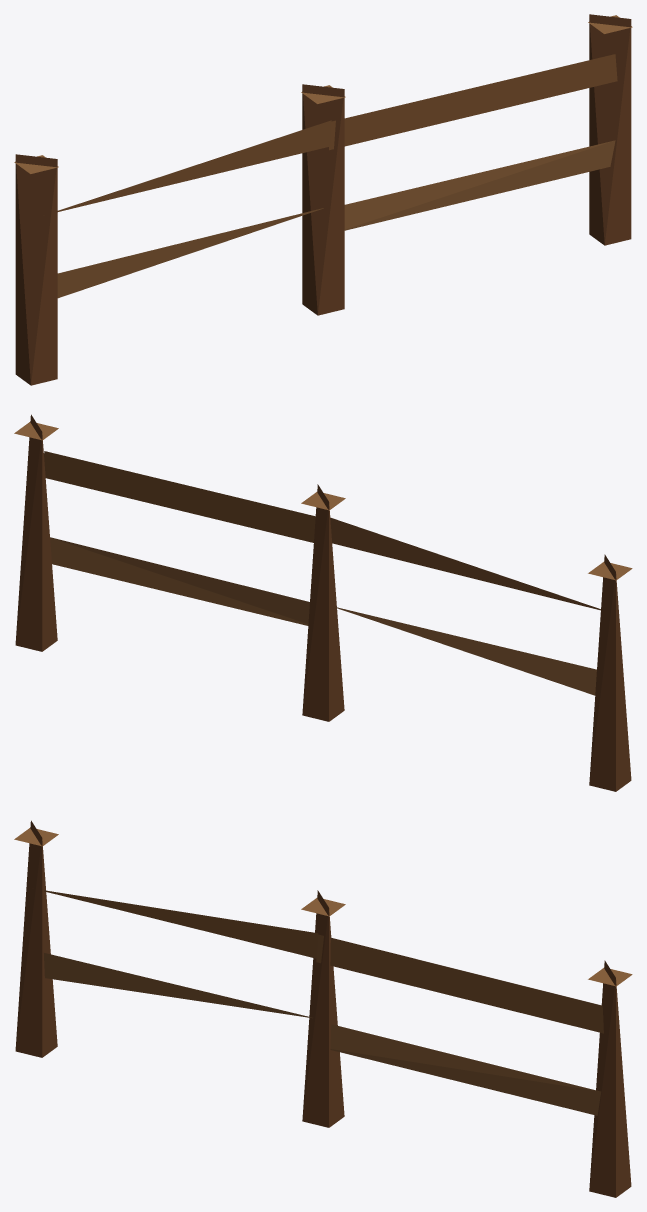
File: town_fence-lod1.glb
3 renders of one model, top to bottom at view 1: azimuth 30°, elevation 25°; view 2: azimuth 150°, elevation 25°; view 3: azimuth 330°, elevation 25°, orthographic.
Visible parts, largest first — view 1: town_fence; view 2: town_fence; view 3: town_fence.
Part boxes in pixels (x1,y1,x2,y2): town_fence: (14, 14, 632, 385); town_fence: (14, 414, 632, 791); town_fence: (14, 820, 632, 1197).
Bounding box in the file's own units: 3.15 × 1.1 × 0.15.
